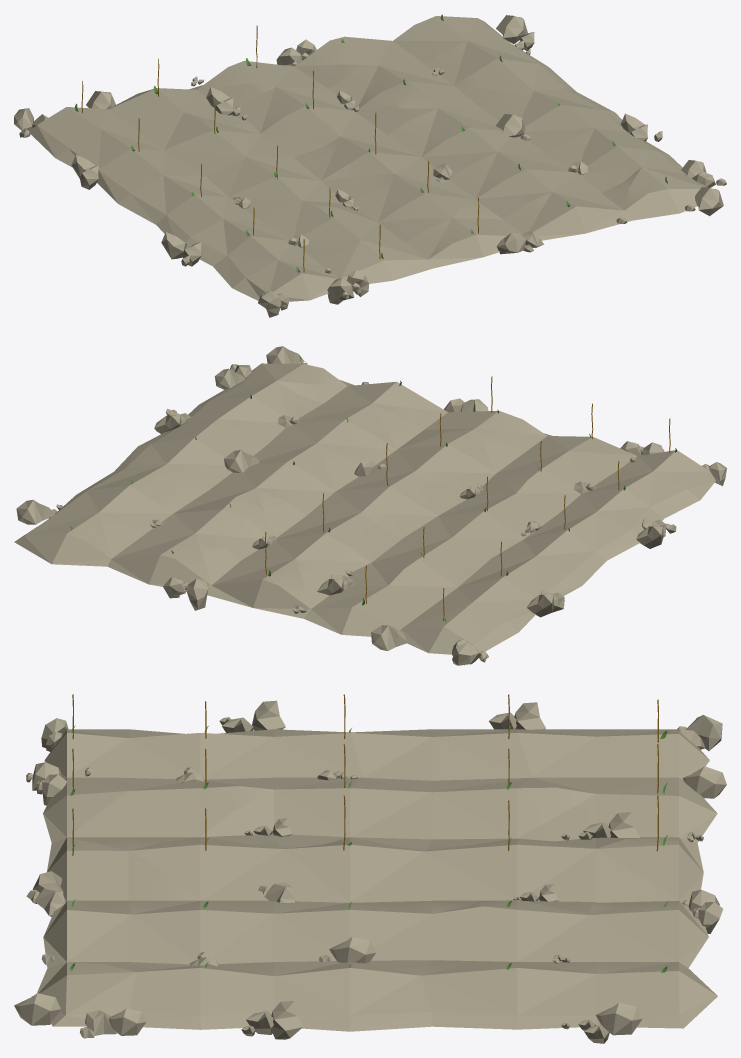
The model's file is fbxCropLand.fbx.
The picture shows the model from 3 angles, top to bottom: view 1: azimuth 30°, elevation 25°; view 2: azimuth 150°, elevation 25°; view 3: azimuth 270°, elevation 25°; orthographic projection. The views are drawn at different scales.
Visible parts, largest first — view 1: pCube4; view 2: pCube4; view 3: pCube4.
Boxes of the visible parts, left/top/right/bottom form: pCube4: left=14, top=14, right=726, bottom=317; pCube4: left=14, top=346, right=726, bottom=665; pCube4: left=14, top=694, right=726, bottom=1043.
Size of the model in its own units: 30.01 by 4.35 by 28.18.
